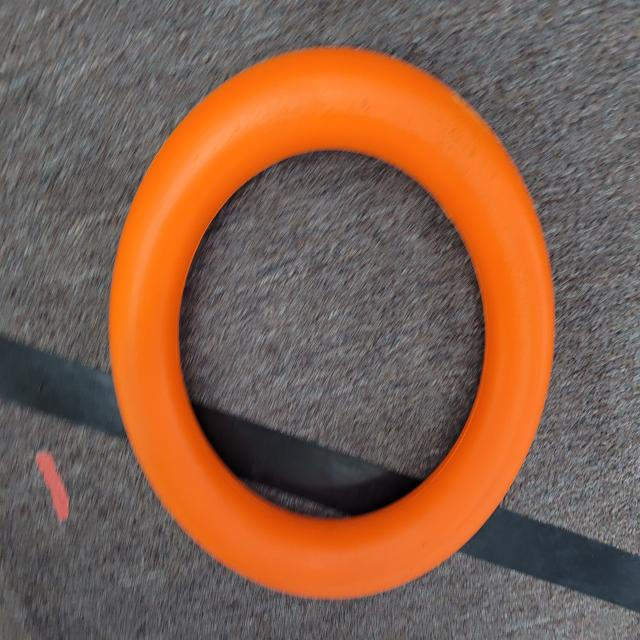note: (100, 39, 576, 609)
